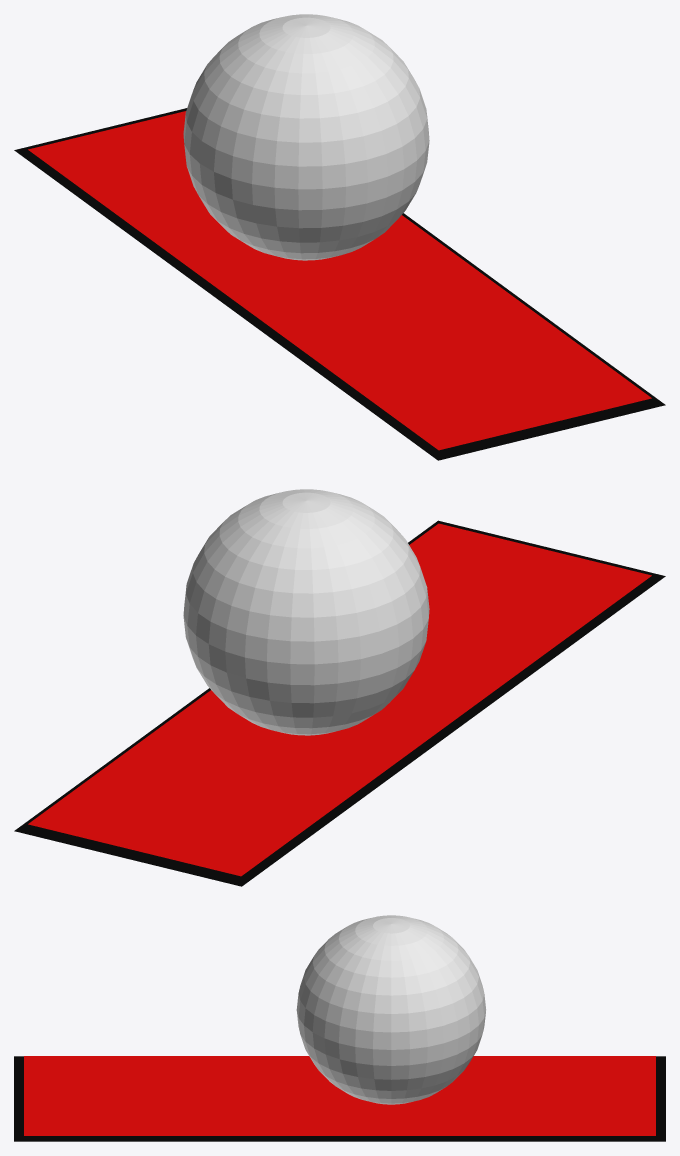
Rendered from MushroomAttackArc.gltf.
3 views of the same model, one above another, from view 1: azimuth 30°, elevation 25°; view 2: azimuth 150°, elevation 25°; view 3: azimuth 270°, elevation 25° (orthographic). The views are drawn at different scales.
Parts seen in each view (by area): view 1: 平面, COL, 平面.001; view 2: 平面, COL, 平面.001; view 3: 平面, COL, 平面.001.
Boxes of the visible parts, <box> form: 平面: <box>28,111,651,450</box>; COL: <box>183,14,429,260</box>; 平面.001: <box>14,108,665,460</box>; 平面: <box>28,523,651,876</box>; COL: <box>183,489,429,735</box>; 平面.001: <box>14,520,665,886</box>; 平面: <box>24,1056,655,1135</box>; COL: <box>296,915,486,1104</box>; 平面.001: <box>14,1056,665,1141</box>.
Bounding box in the file's own units: 0.64 × 0.6108 × 2.06.
